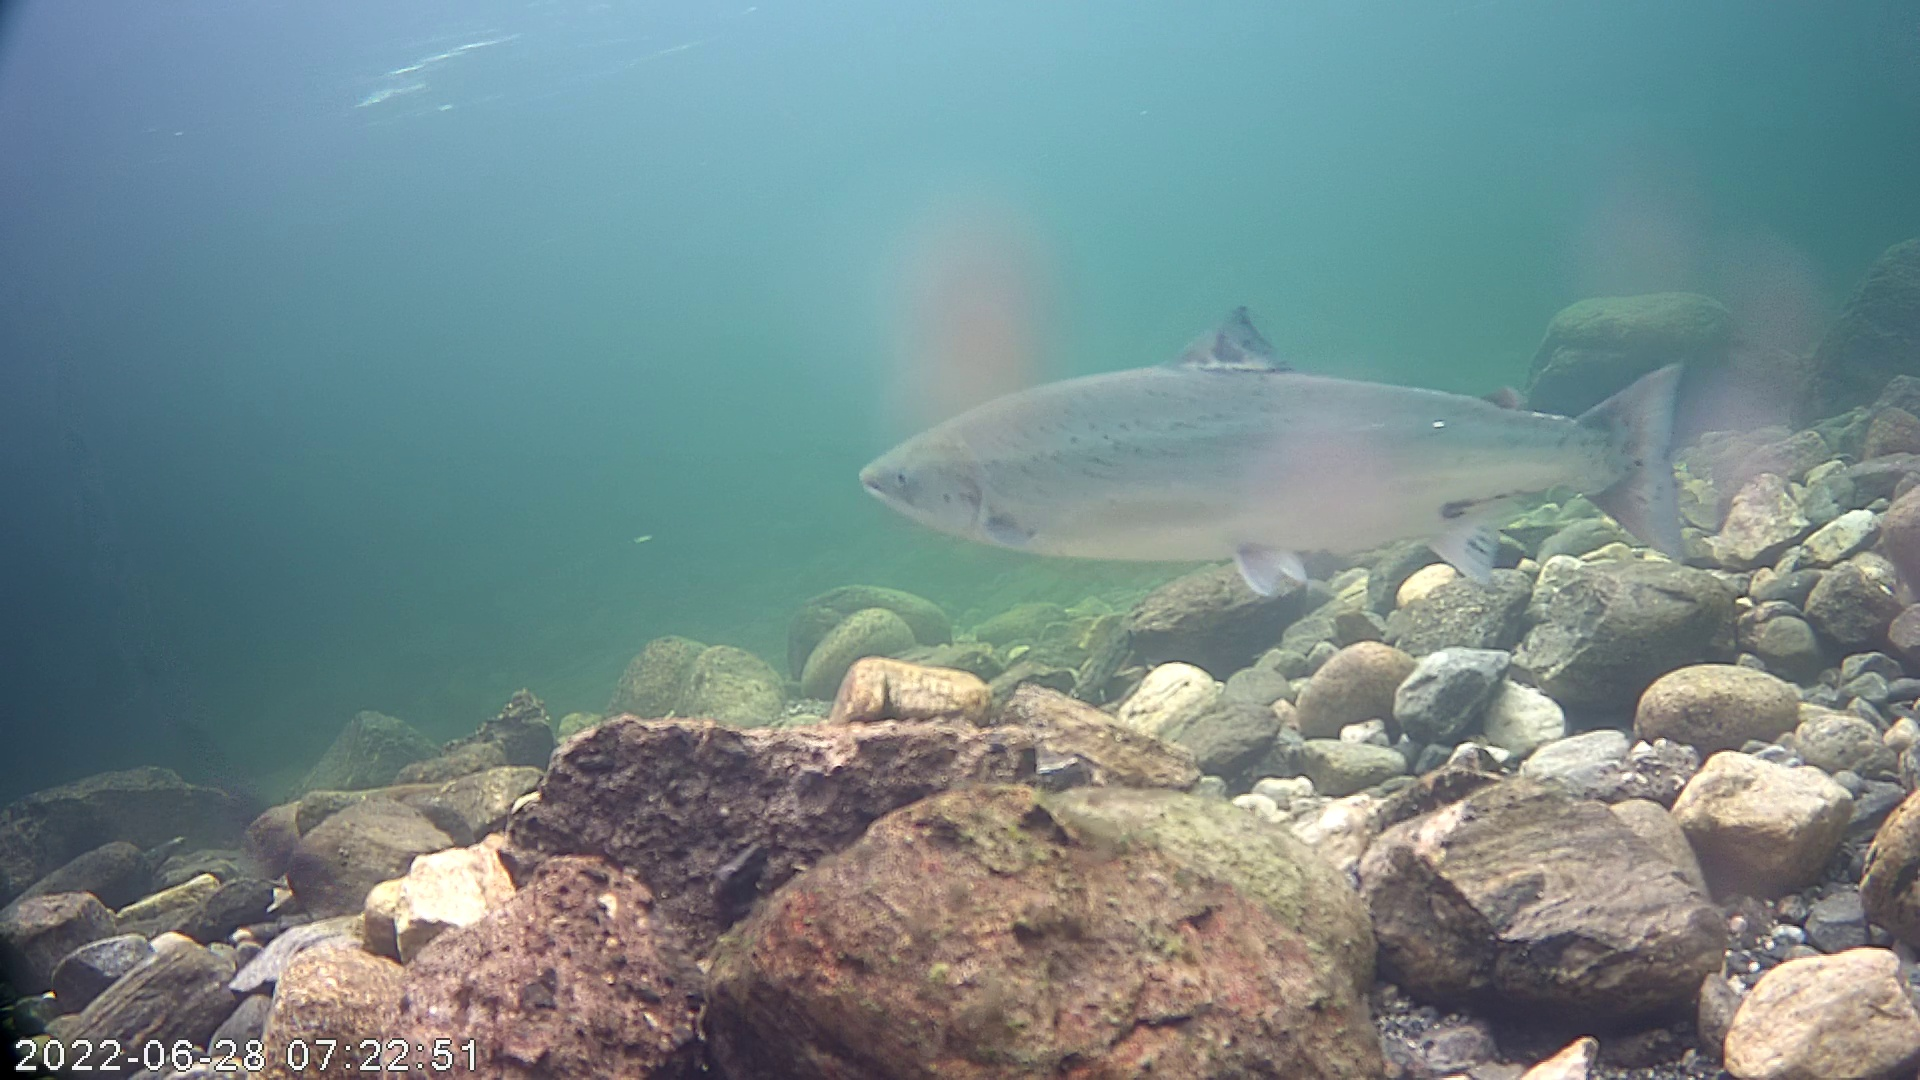salmon: (847, 223, 1724, 671)
